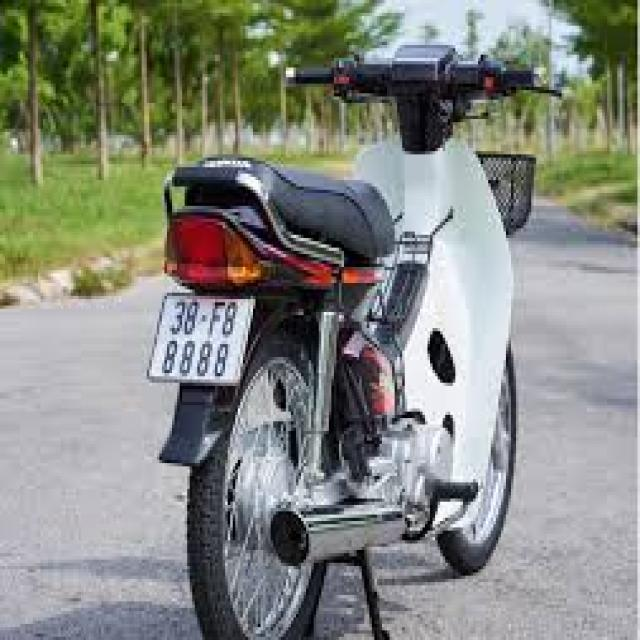a: (146, 280, 254, 398)
bien so: (146, 292, 253, 398)
